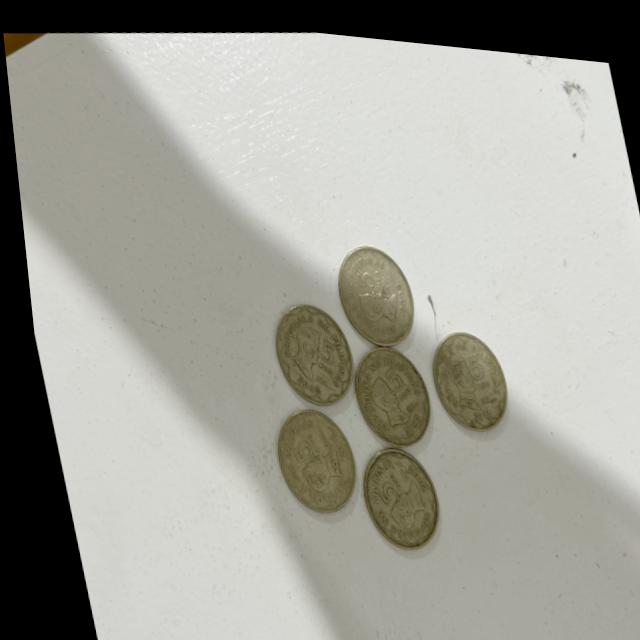5_Old_Front: (302, 324, 339, 376), (373, 354, 408, 406), (363, 456, 398, 506), (277, 420, 314, 462), (456, 339, 488, 385), (344, 252, 383, 288)
